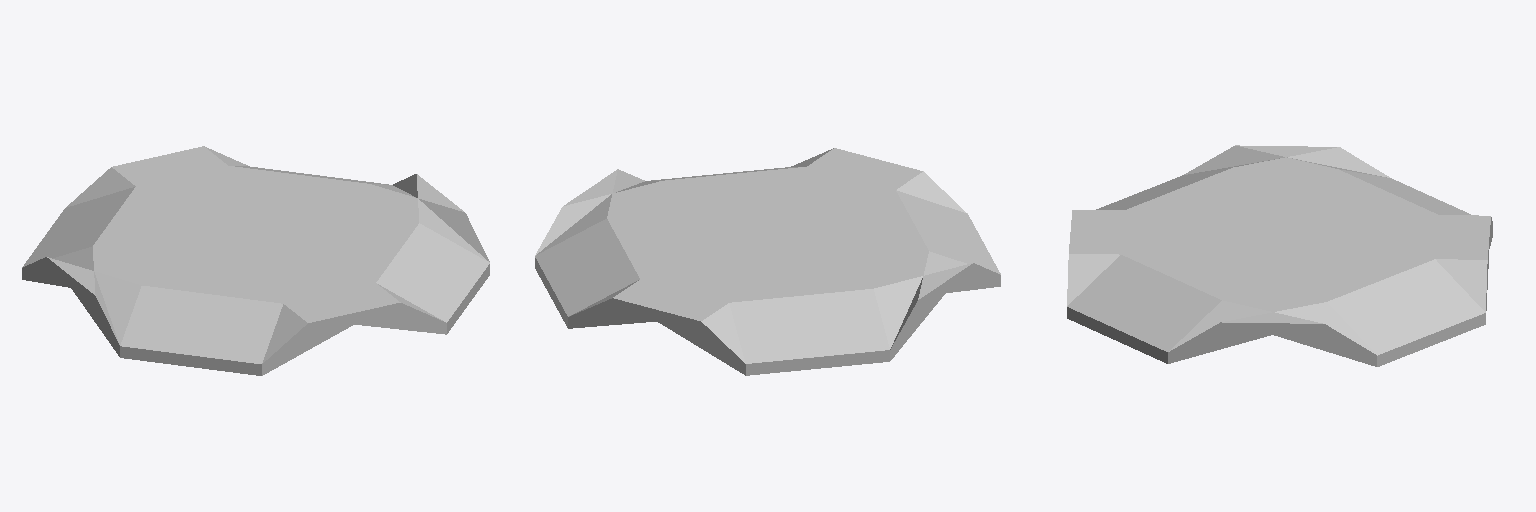
File: landingpad1.obj
3 renders of one model, left to right at view 1: azimuth 30°, elevation 25°; view 2: azimuth 150°, elevation 25°; view 3: azimuth 270°, elevation 25°, orthographic.
Parts seen in each view (by area): view 1: LandingPad1_Cube.020; view 2: LandingPad1_Cube.020; view 3: LandingPad1_Cube.020.
Boxes of the visible parts, <box> form: LandingPad1_Cube.020: <box>22,146,489,375</box>; LandingPad1_Cube.020: <box>535,148,1000,375</box>; LandingPad1_Cube.020: <box>1067,145,1492,366</box>.
Size of the model in its own units: 0.0242 by 0.0027 by 0.0242.